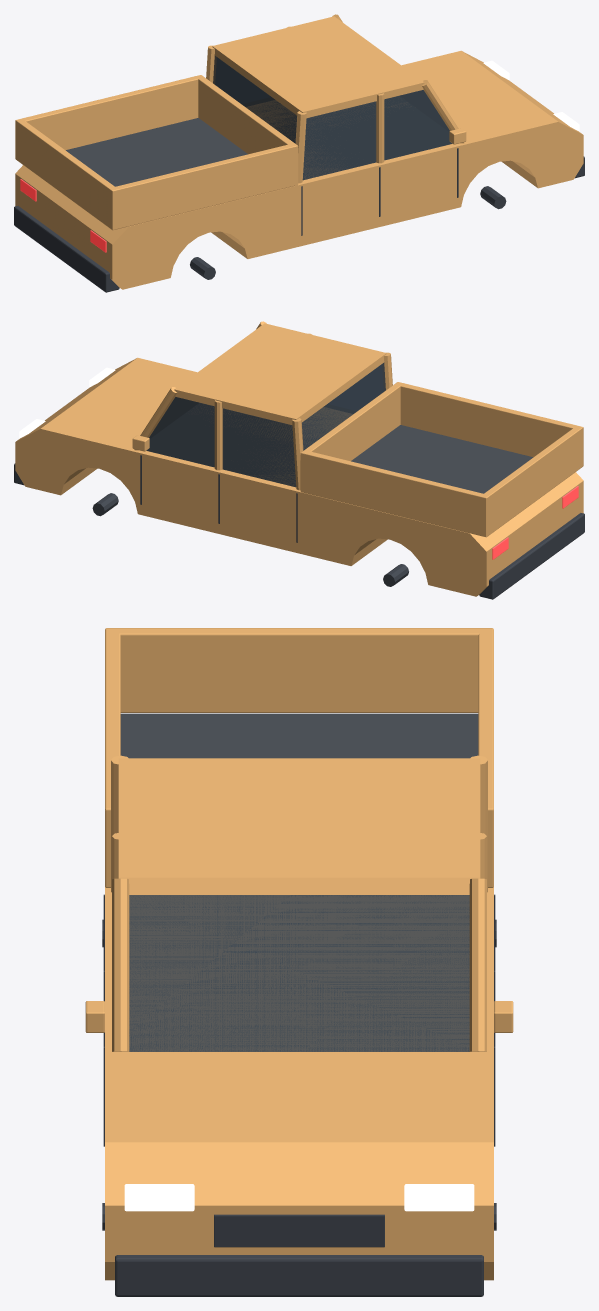
Rendered from rover_shell.glb.
3 renders of one model, top to bottom at view 1: azimuth 30°, elevation 25°; view 2: azimuth 150°, elevation 25°; view 3: azimuth 270°, elevation 25°, orthographic. The views are drawn at different scales.
Parts seen in each view (by area): view 1: car; view 2: car; view 3: car.
Part boxes in pixels (x1,y1,x2,y2): car: [14, 14, 584, 292]; car: [14, 321, 584, 599]; car: [85, 628, 513, 1296].
Bounding box in the file's own units: 5.7 × 1.61 × 2.2.
